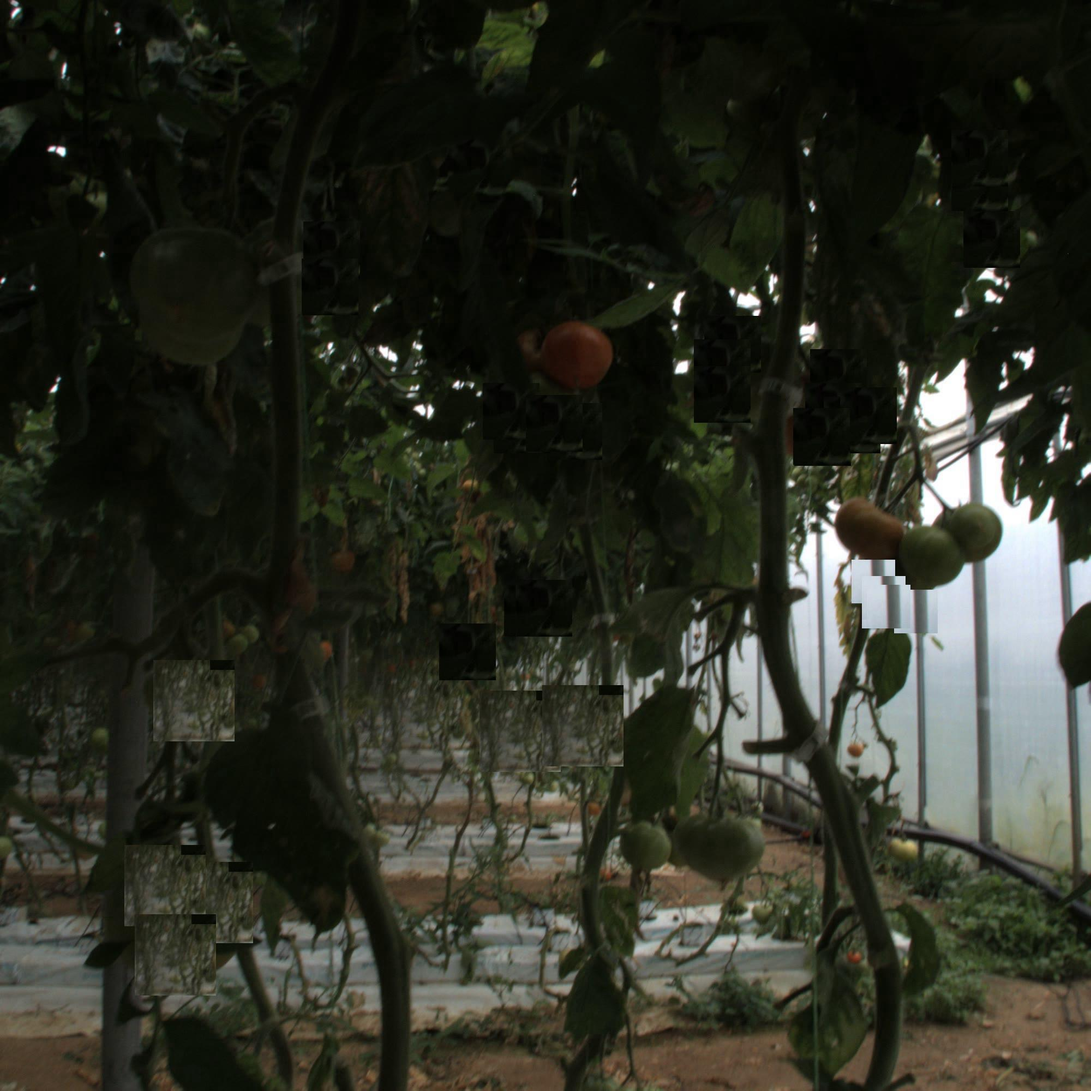fully-ripe: (544, 324, 608, 388)
semi-ripe: (836, 492, 900, 556)
unripe: (128, 223, 260, 355), (686, 805, 760, 879), (934, 496, 1005, 567), (899, 523, 963, 587), (618, 820, 673, 874)
